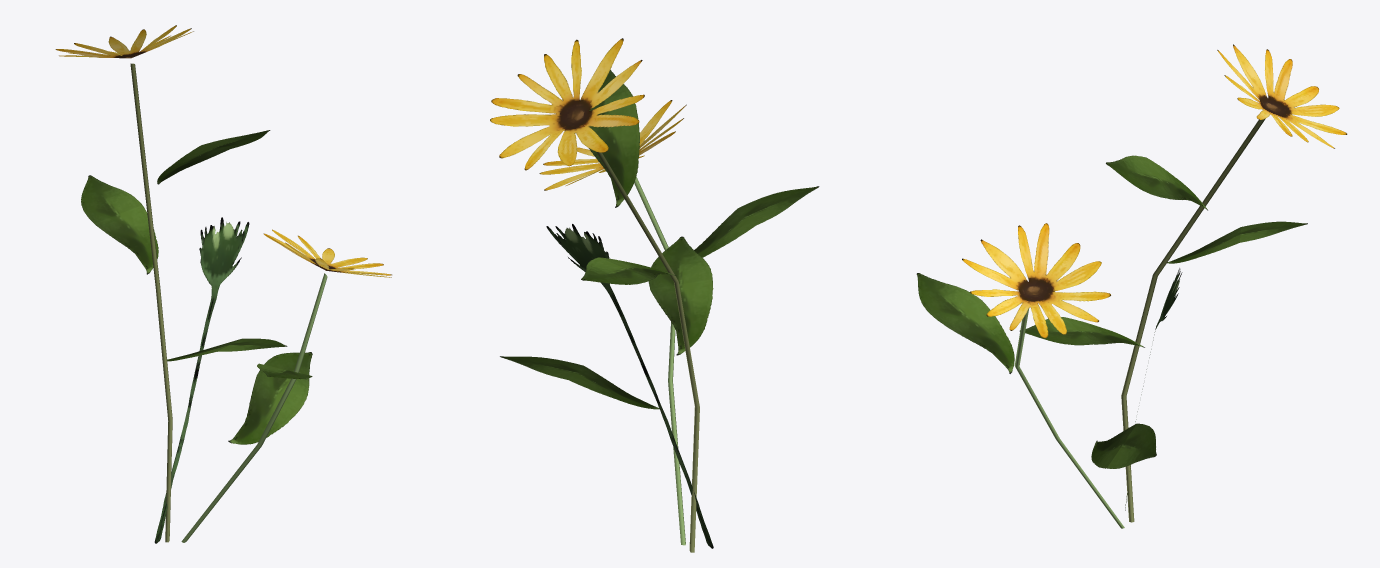
3 renders of one model, left to right at view 1: azimuth 30°, elevation 25°; view 2: azimuth 150°, elevation 25°; view 3: azimuth 270°, elevation 25°, orthographic. The views are drawn at different scales.
Parts seen in each view (by area): view 1: F13-1; view 2: F13-1; view 3: F13-1.
Part boxes in pixels (x1,y1,x2,y2): F13-1: (55, 25, 391, 543); F13-1: (490, 38, 819, 552); F13-1: (916, 44, 1347, 528).
Size of the model in its own units: 122 by 225 by 192.
